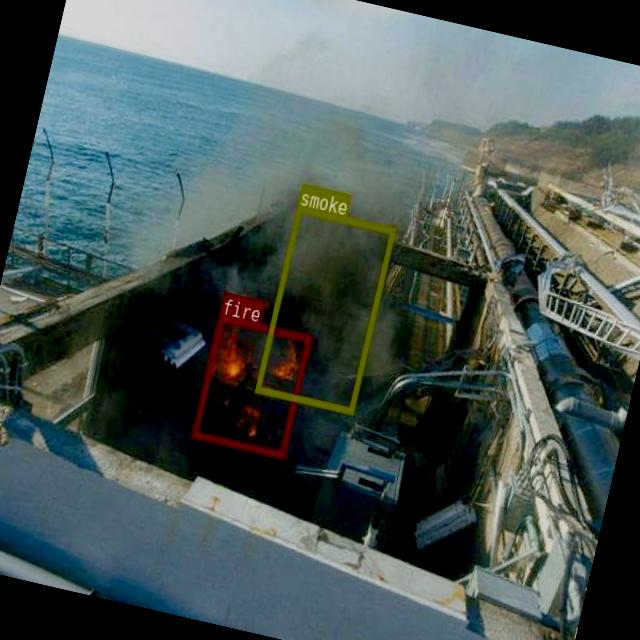fire: (191, 314, 311, 456)
smoke: (255, 204, 394, 413)
